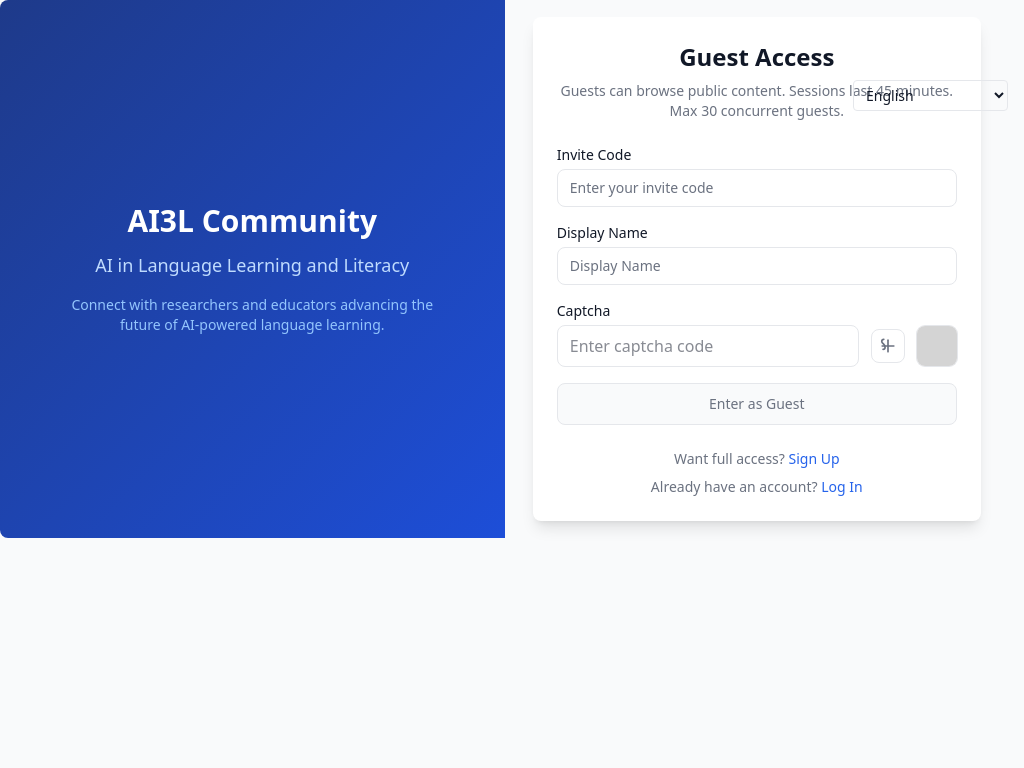
Test: GuestLoginView › error handling › displays API error detail
This screenshot has width=1024, height=768.
Type "GUEST-CODE" into the field with id "input-invite-code" at (757, 188), box x1=557 y1=169 x2=957 y2=207
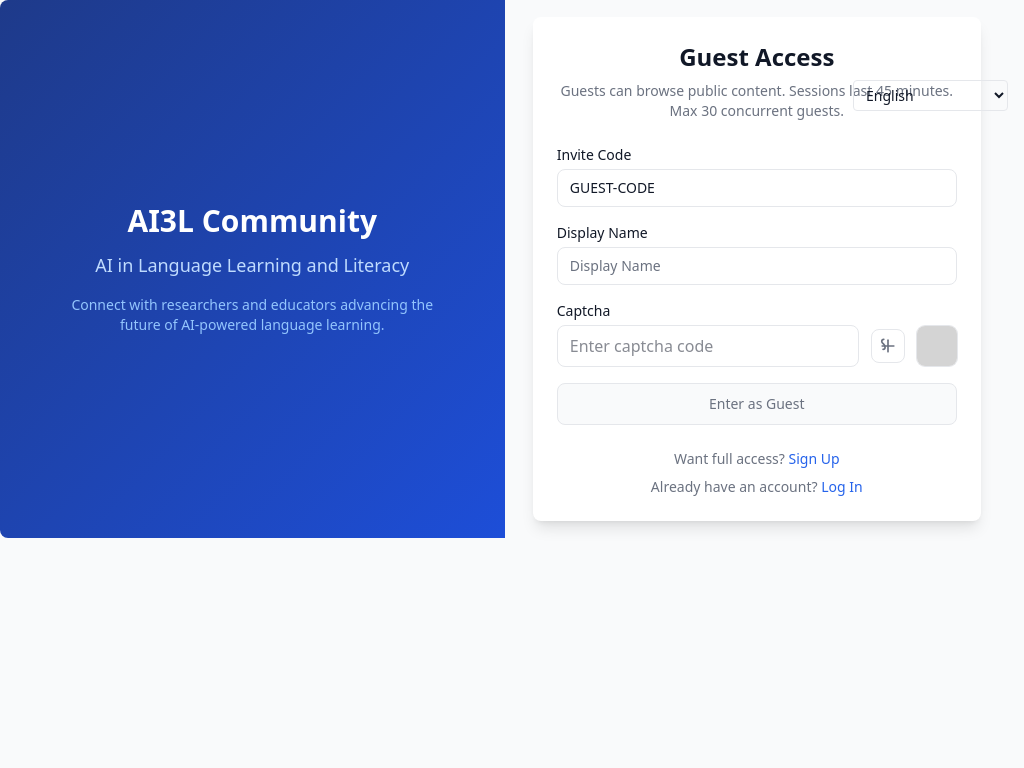
Type "Guest User" into the field with id "input-display-name" at (757, 266), box x1=557 y1=247 x2=957 y2=285
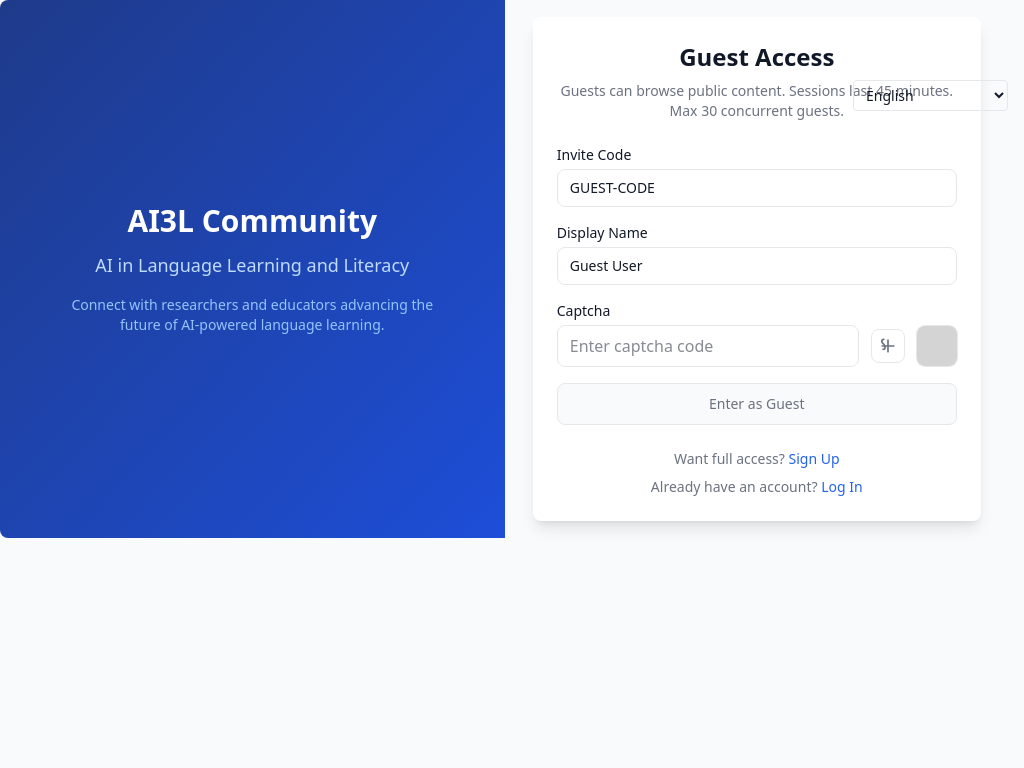
Type "1234" into the field labelled "Captcha" at (708, 346), box x1=557 y1=325 x2=859 y2=367
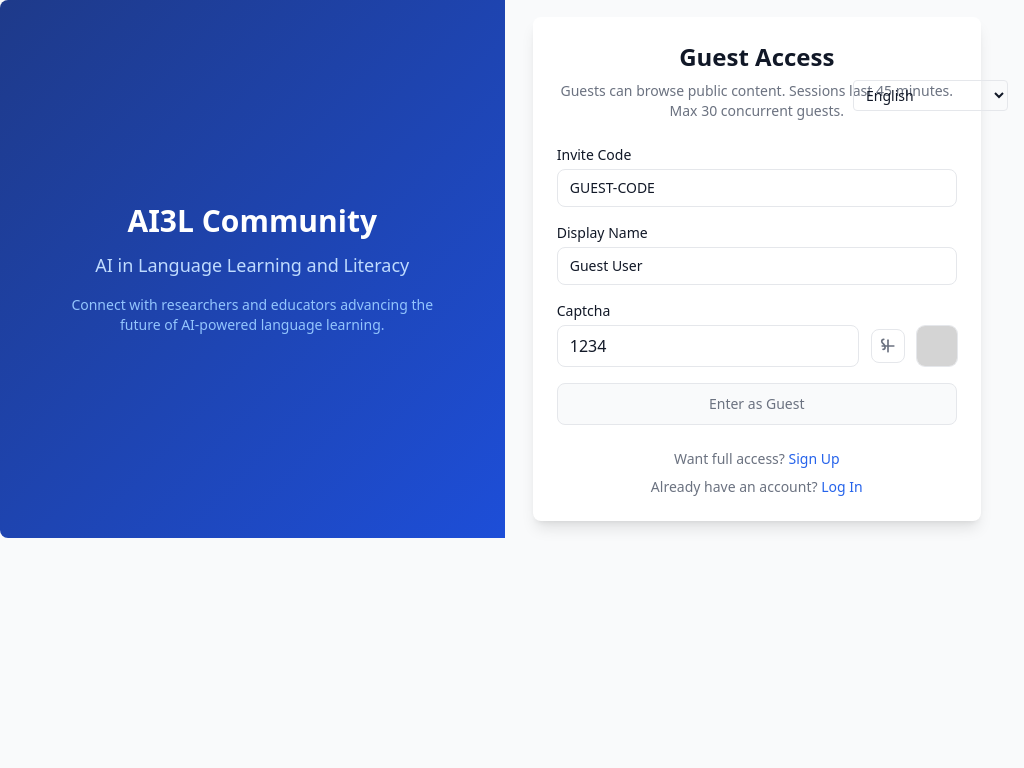
Submit the form, box x1=557 y1=145 x2=957 y2=425
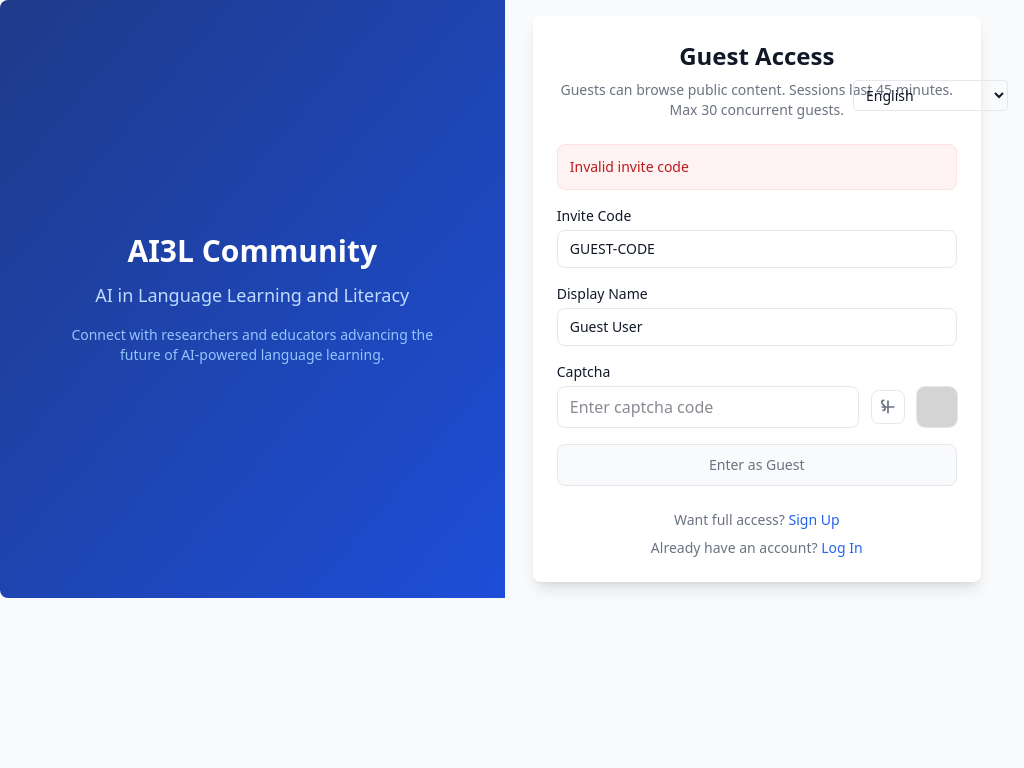
Result: the text "Invalid invite code" is shown at x1=570 y1=157 x2=689 y2=176
